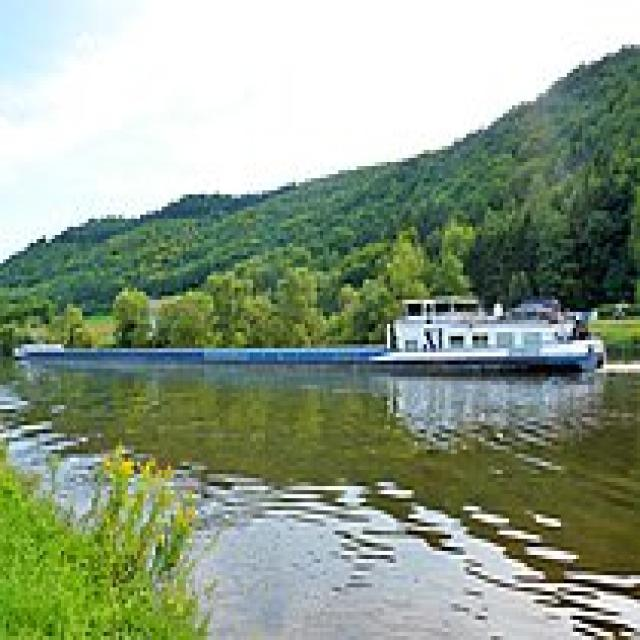Cargo: (9, 292, 604, 372)
